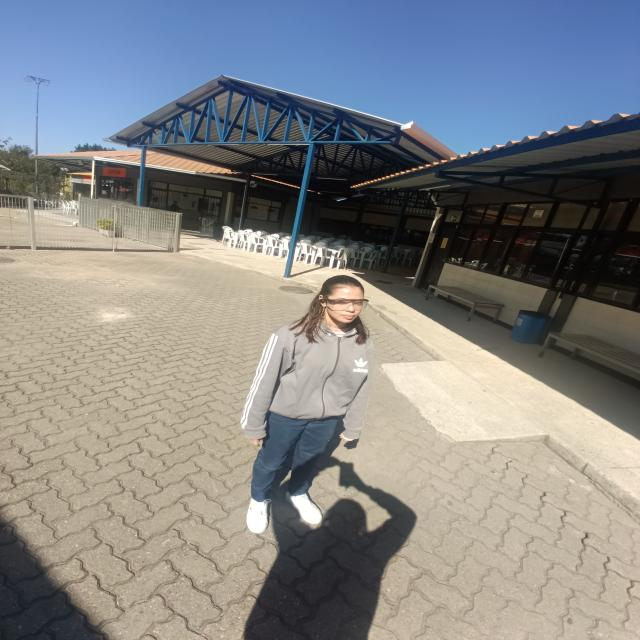oculos-epi: (326, 298, 369, 310)
